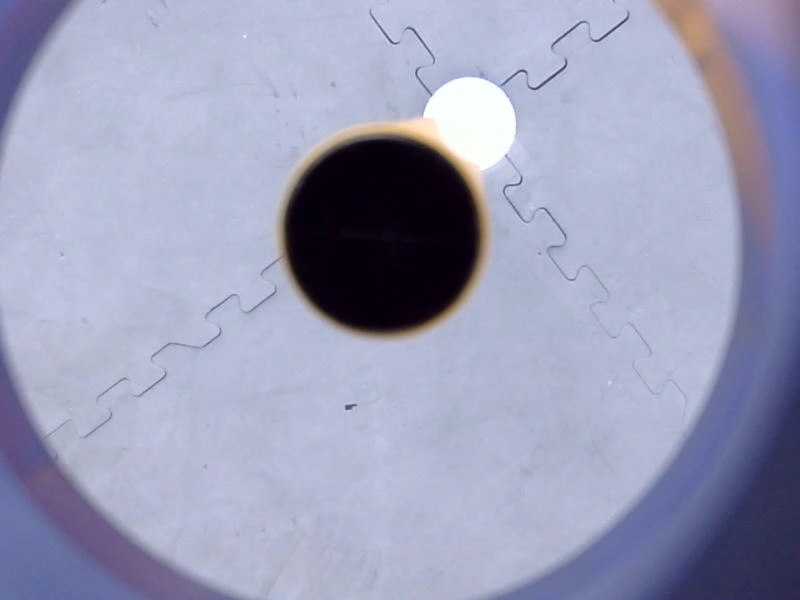tip: (266, 113, 500, 348)
